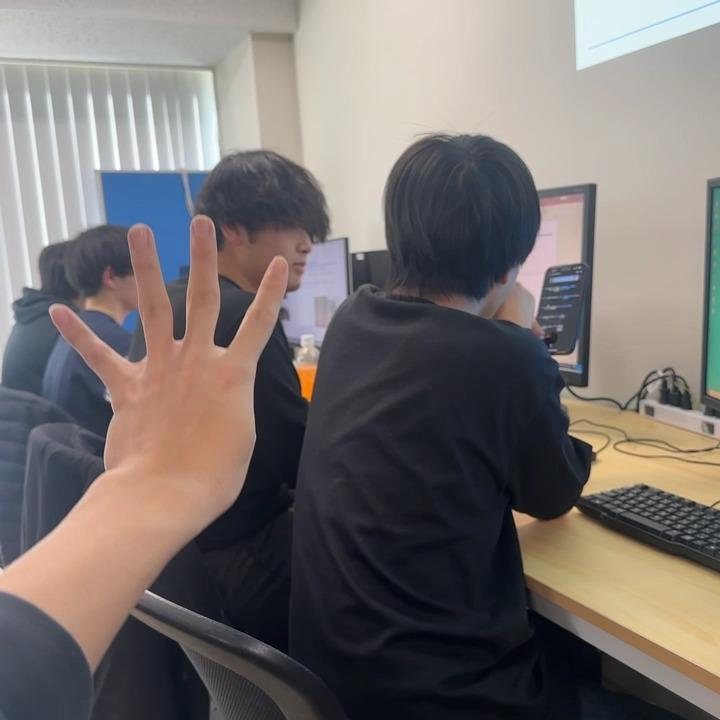without_gloves: (64, 156, 352, 543)
